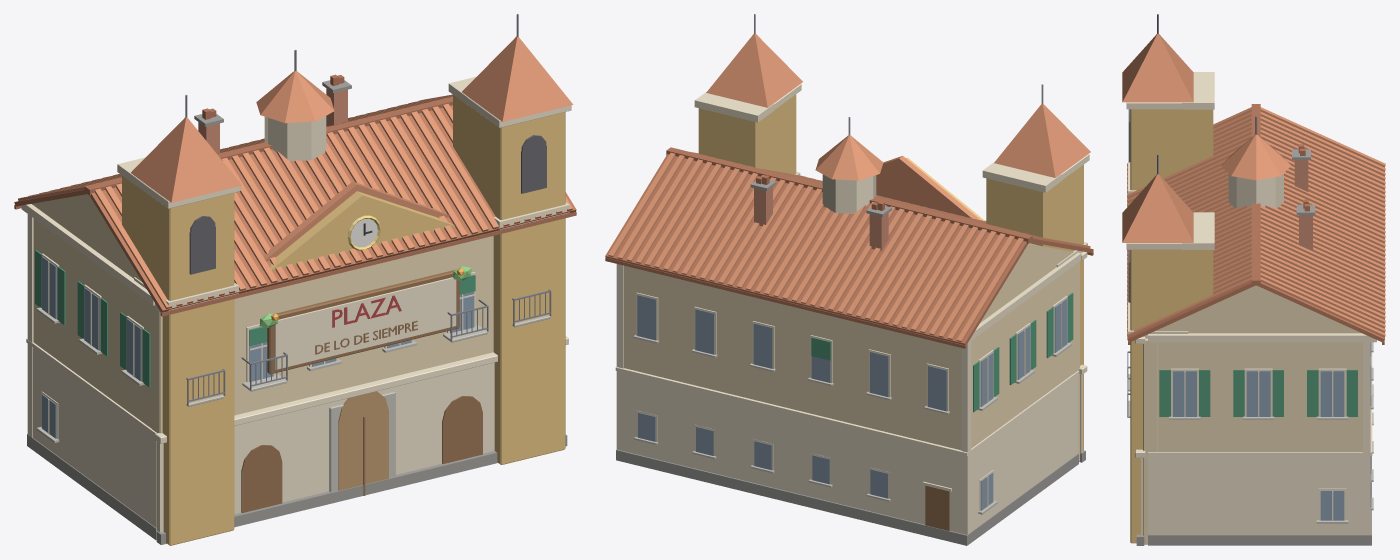
The model's file is env_plaza_endbuilding_01.glb.
3 views of the same model, side by side, from view 1: azimuth 30°, elevation 25°; view 2: azimuth 150°, elevation 25°; view 3: azimuth 270°, elevation 25° (orthographic). The views are drawn at different scales.
Visible parts, largest first — view 1: env_plaza_endbuilding_01_body; view 2: env_plaza_endbuilding_01_body; view 3: env_plaza_endbuilding_01_body.
Part boxes in pixels (x1,y1,x2,y2): env_plaza_endbuilding_01_body: [14, 14, 576, 545]; env_plaza_endbuilding_01_body: [605, 14, 1093, 545]; env_plaza_endbuilding_01_body: [1122, 14, 1385, 545].
Size of the model in its own units: 16.6 by 16.46 by 10.45.
